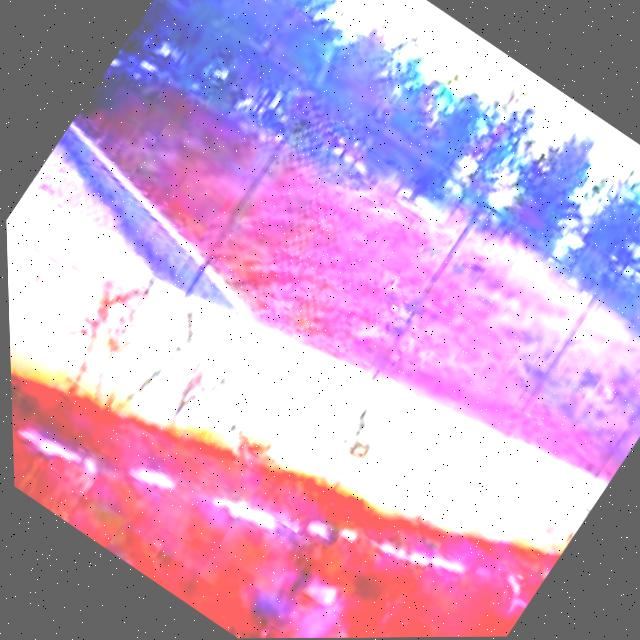Fire: (288, 594, 412, 638)
